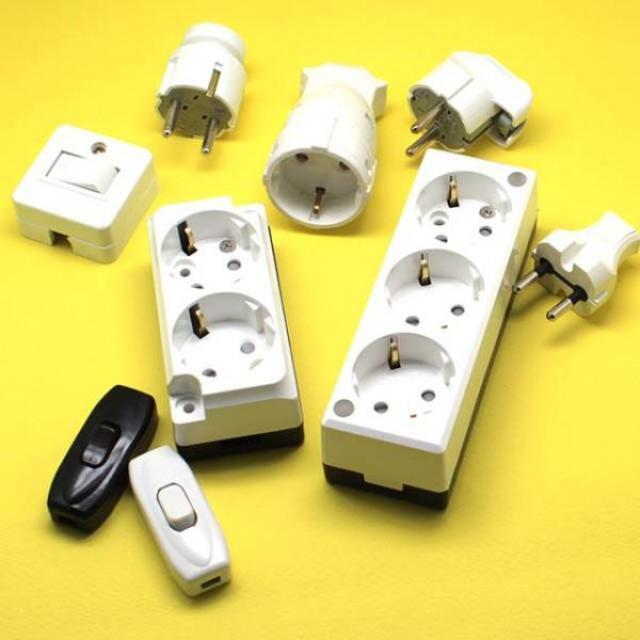typeb: (298, 147, 594, 567), (126, 194, 313, 473)
